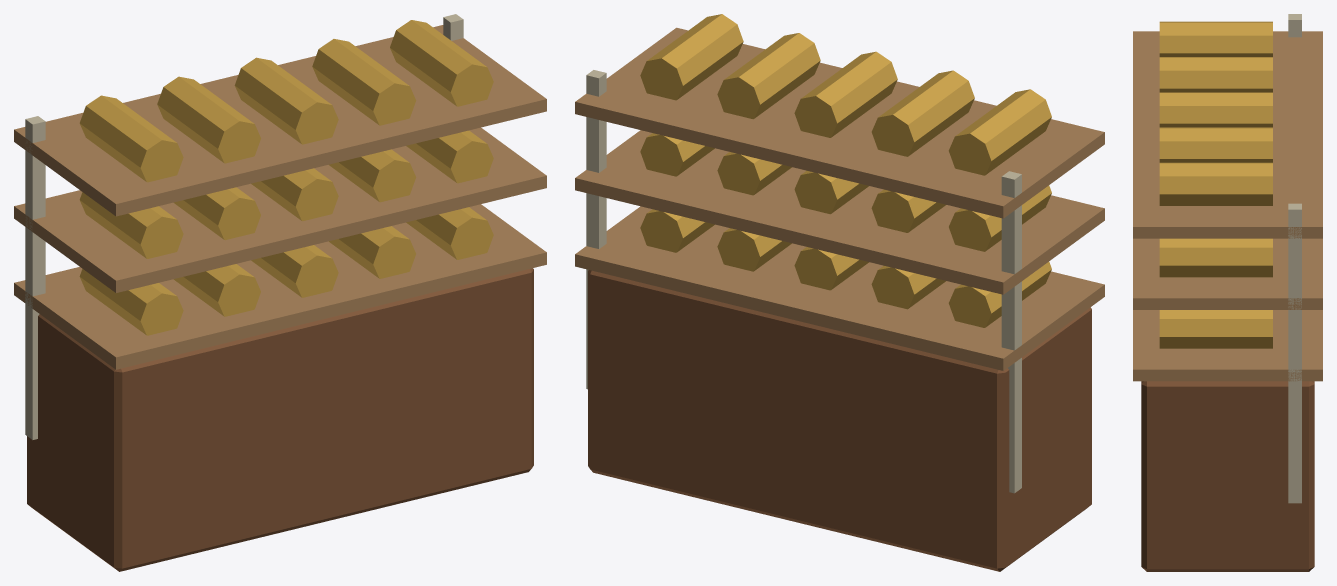
The model's file is bakery_display.glb.
3 renders of one model, left to right at view 1: azimuth 30°, elevation 25°; view 2: azimuth 150°, elevation 25°; view 3: azimuth 270°, elevation 25°, orthographic. The views are drawn at different scales.
Parts seen in each view (by area): view 1: bakery_display; view 2: bakery_display; view 3: bakery_display.
Part boxes in pixels (box(x1,y1,x2,y2)): bakery_display: box(14, 14, 546, 571); bakery_display: box(575, 14, 1104, 571); bakery_display: box(1133, 14, 1322, 571).
Size of the model in its own units: 2 by 1.84 by 0.82.
